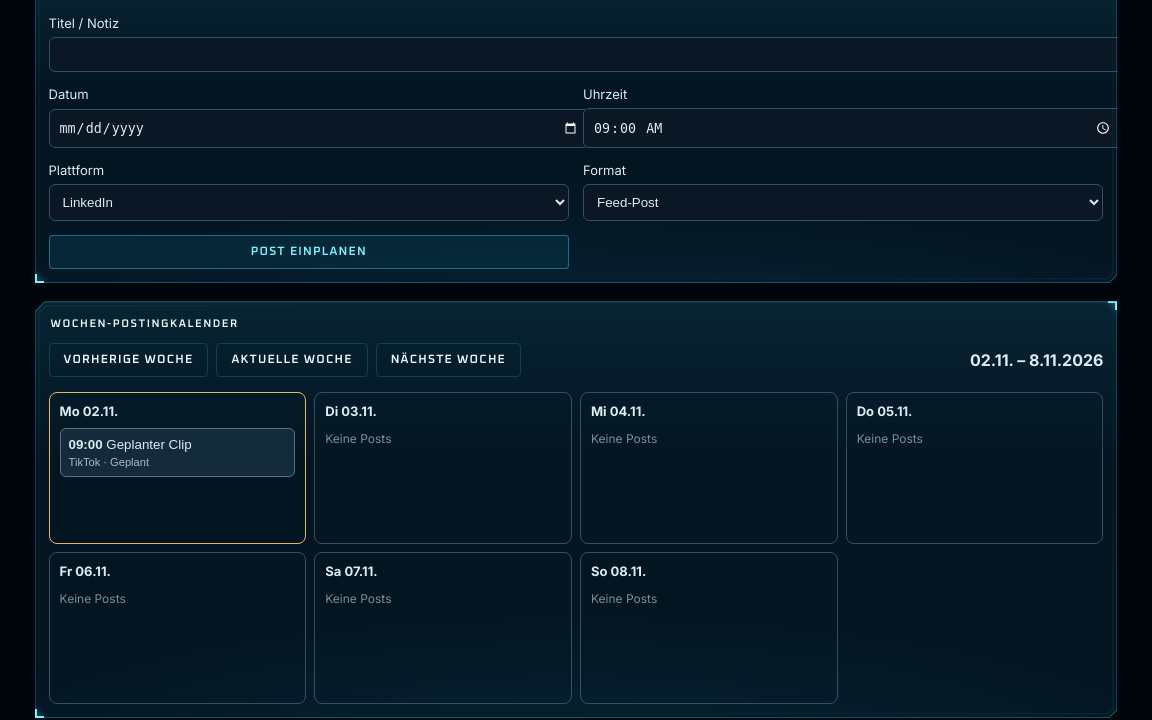
Test: Content Studio parity views › shows the production guide, kanban, and calendar from the server plan
The width and height of the screenshot is (1152, 720).
(page scrolled)
Check: the button "09:00 Geplanter Clip TikTok · Geplant" is shown, box [60, 428, 295, 477]
Click the button "Nächste Woche".
click(448, 360)  # box [376, 343, 521, 377]
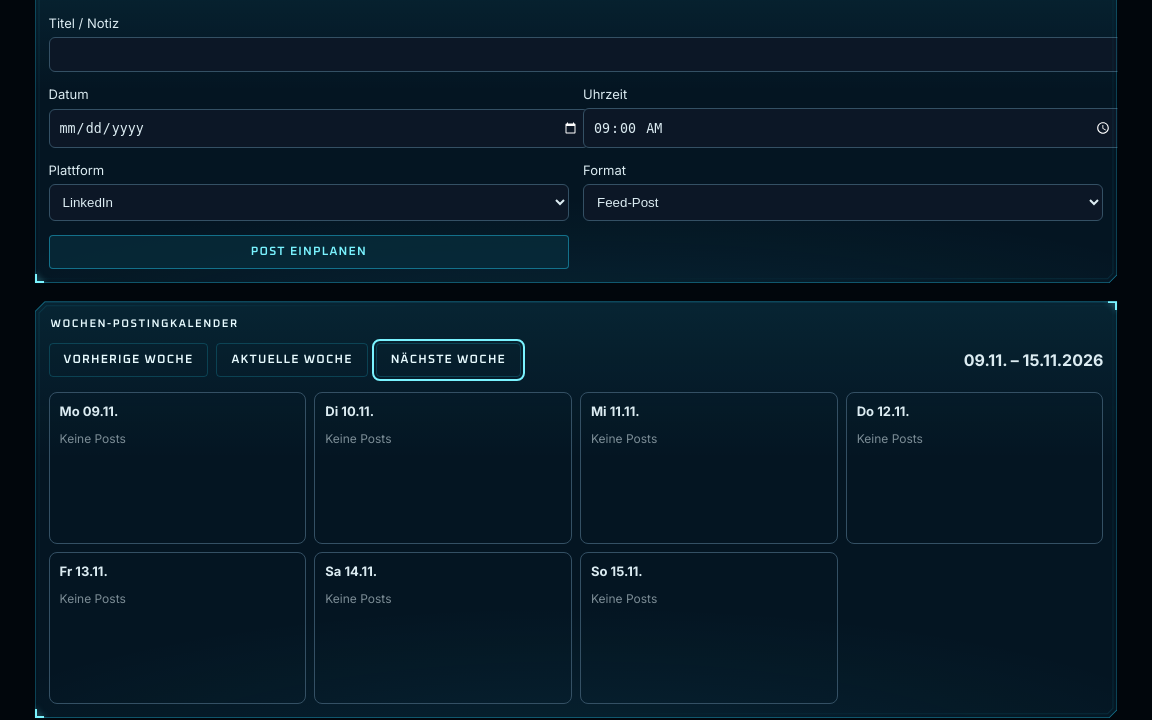
Click the button "Aktuelle Woche".
click(292, 360)  # box [216, 343, 368, 377]
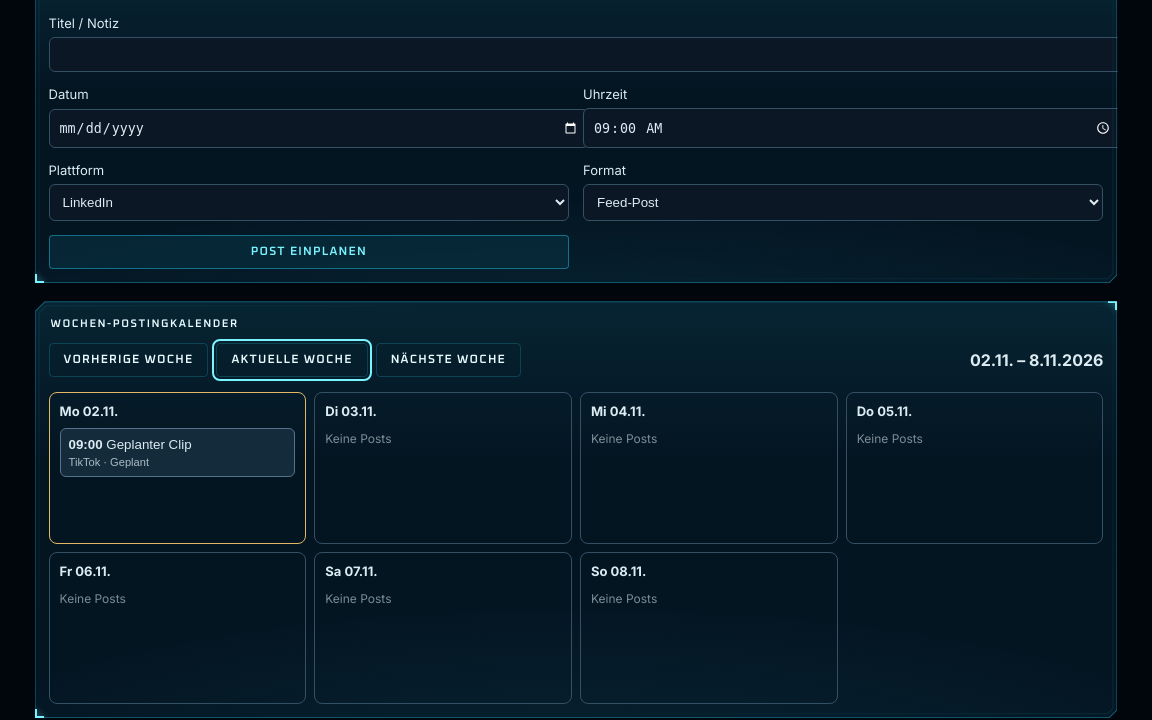
Click the button "09:00 Geplanter Clip TikTok · Geplant".
click(177, 453)  # box [60, 428, 295, 477]
(page scrolled)
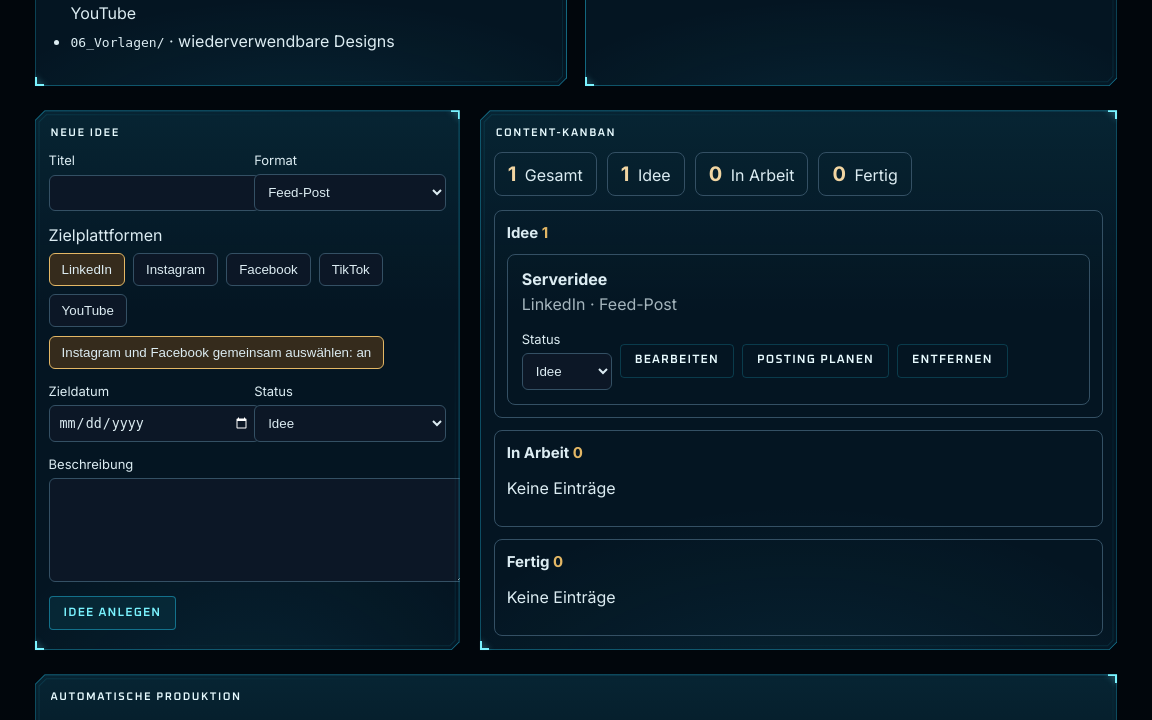
Click the button "Bearbeiten".
click(677, 361)  # box [620, 344, 734, 378]
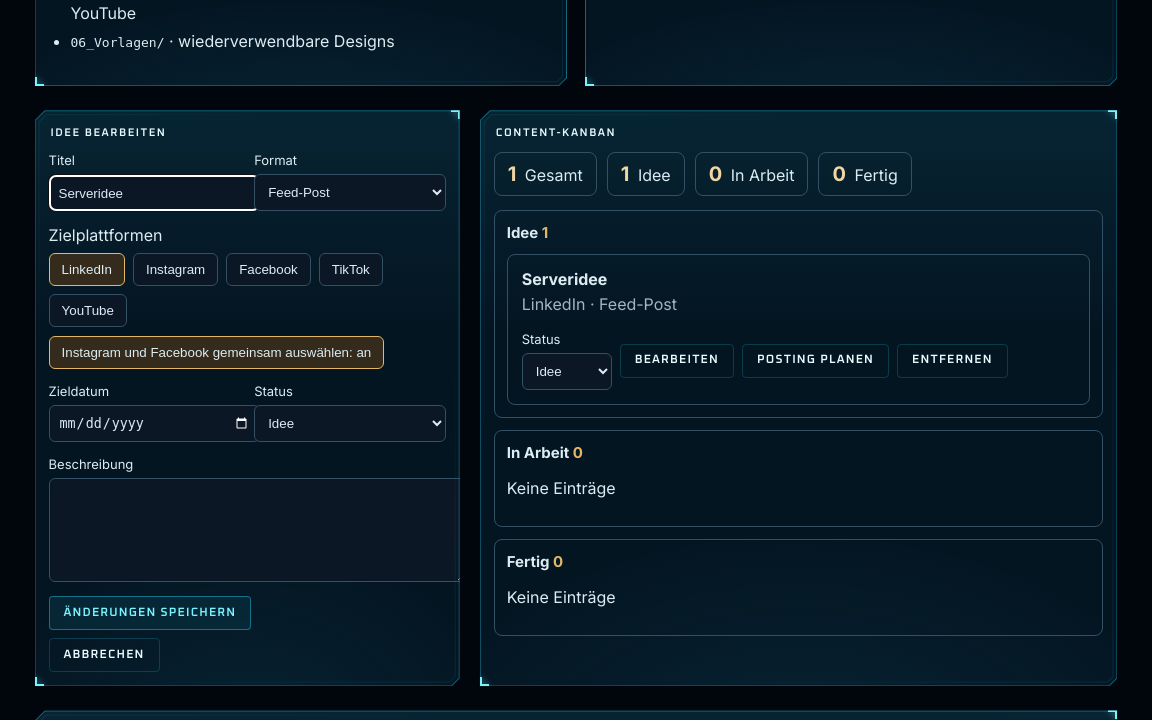
Check: the field showing "Serveridee" is shown
Check: the button "Änderungen speichern" is shown, box [48, 596, 251, 630]
Replace the text in the field labelled "Titel" with "Bearbeitete Idee" at (154, 193), box [48, 175, 260, 211]
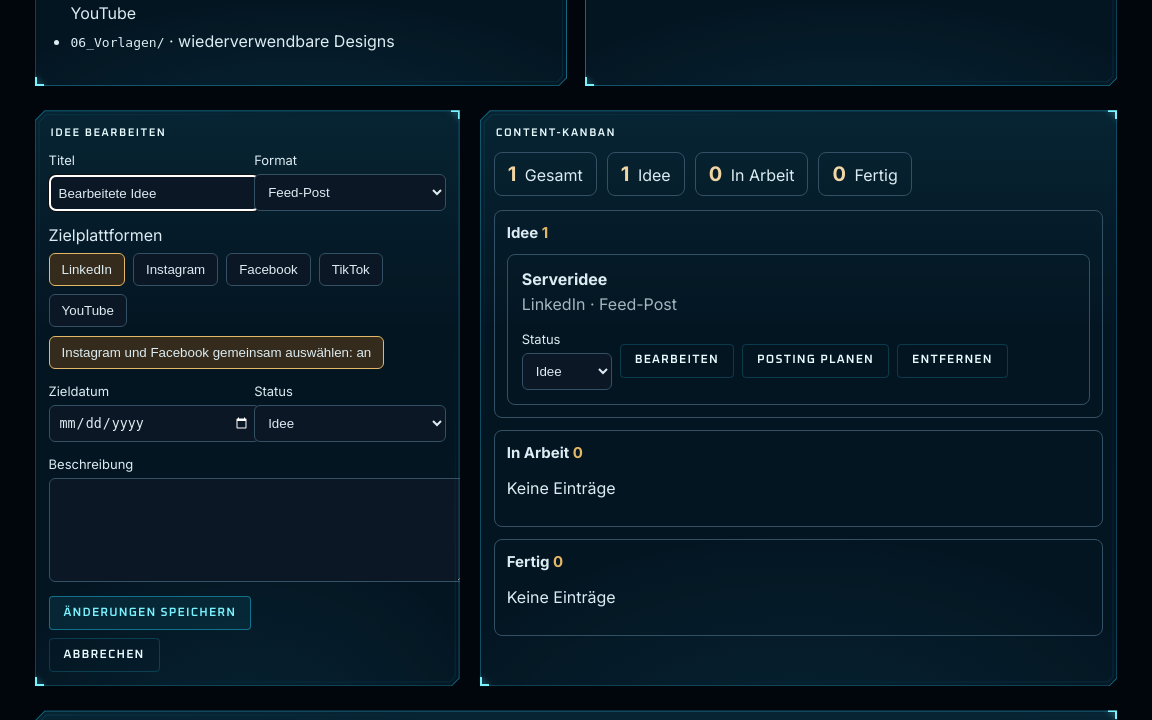
Click the button "Änderungen speichern".
click(150, 614)  # box [48, 596, 251, 630]
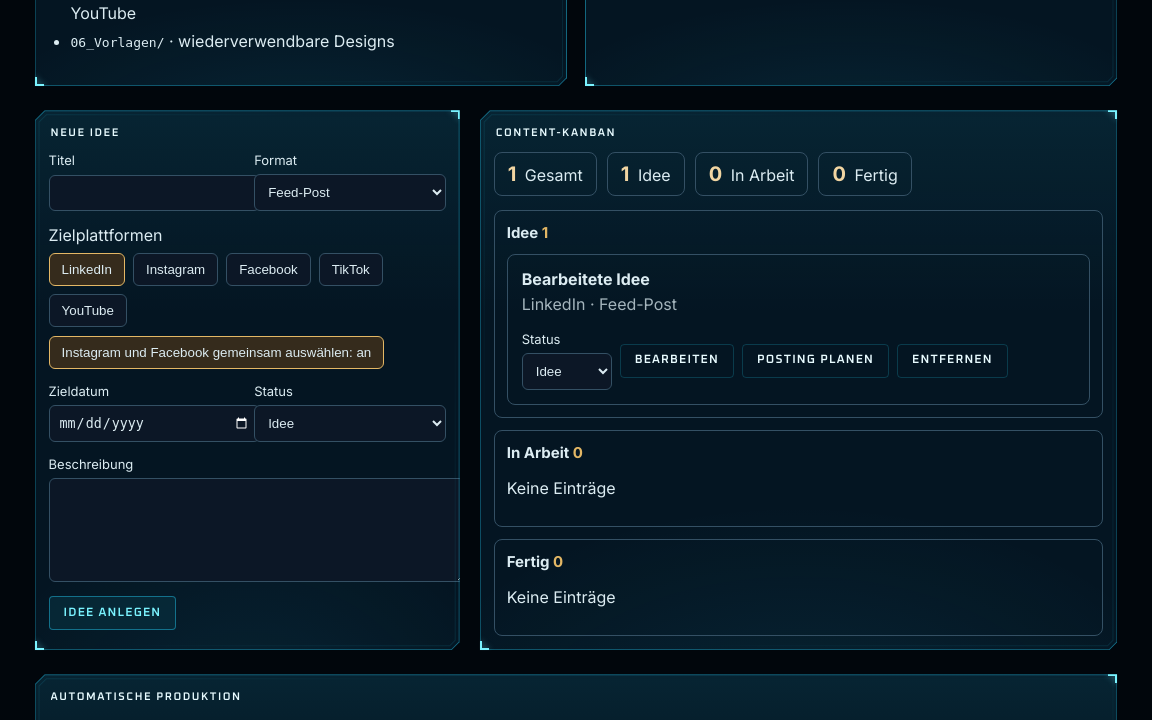
Check: the text "Serveridee" reads "Bearbeitete Idee", box [522, 269, 650, 289]
